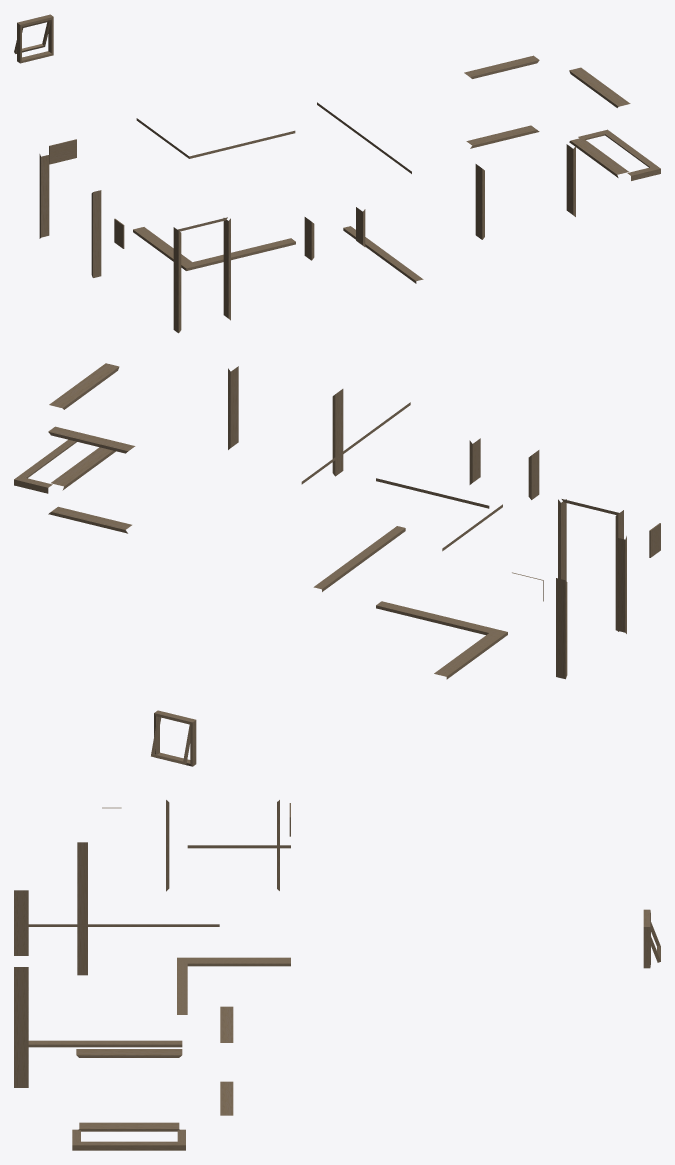
The model's file is kd_stage_135ded_4_15_exterior.glb.
3 views of the same model, one above another, from view 1: azimuth 30°, elevation 25°; view 2: azimuth 150°, elevation 25°; view 3: azimuth 270°, elevation 25° (orthographic). The views are drawn at different scales.
Visible parts, largest first — view 1: kd_stage_135ded_4_15_exterior; view 2: kd_stage_135ded_4_15_exterior; view 3: kd_stage_135ded_4_15_exterior.
Part boxes in pixels (left/top/right/bottom): kd_stage_135ded_4_15_exterior: left=14, top=14, right=660, bottom=333; kd_stage_135ded_4_15_exterior: left=14, top=363, right=660, bottom=766; kd_stage_135ded_4_15_exterior: left=14, top=800, right=660, bottom=1150.
Bounding box in the file's own units: 10.5 × 2.45 × 10.52.
1 material, 1 textured.
